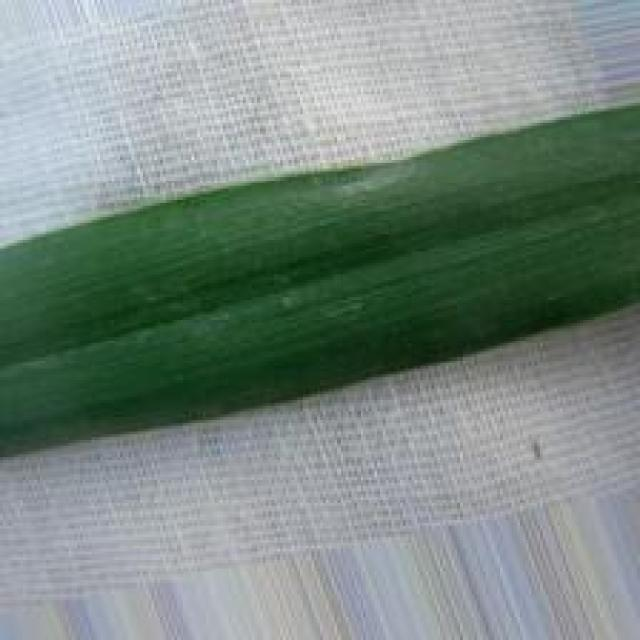Healthy: (0, 99, 638, 465)
